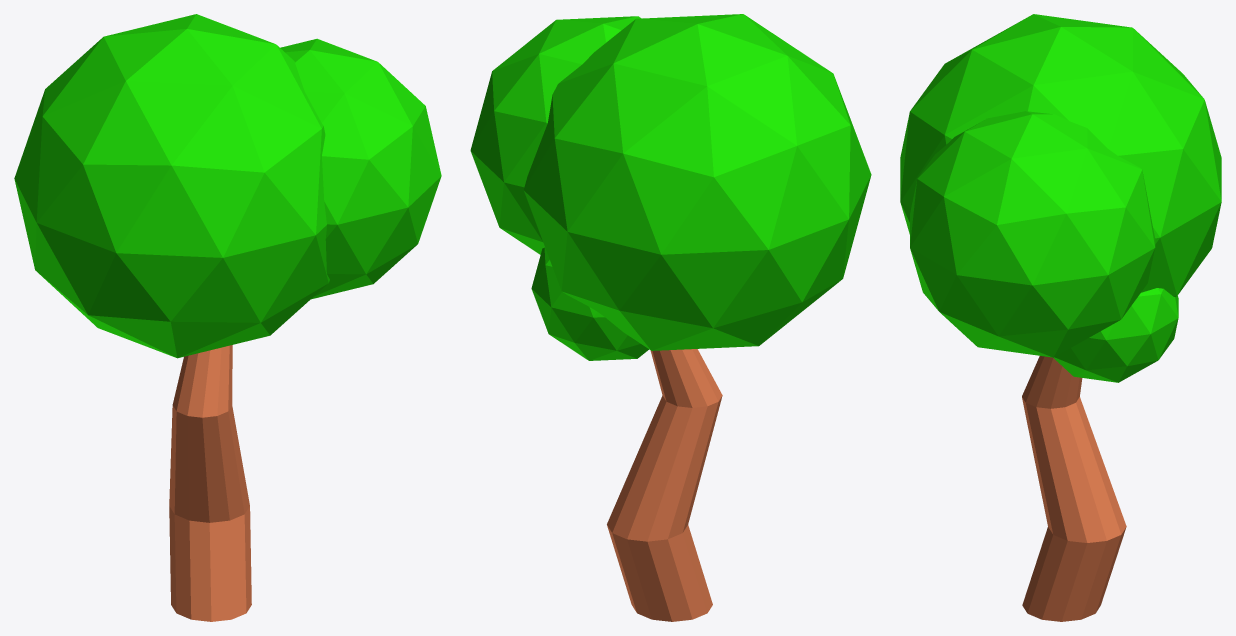
File: tree1.fbx
3 renders of one model, left to right at view 1: azimuth 30°, elevation 25°; view 2: azimuth 150°, elevation 25°; view 3: azimuth 270°, elevation 25°, orthographic. The views are drawn at different scales.
Parts seen in each view (by area): view 1: Tree 1; view 2: Tree 1; view 3: Tree 1.
Boxes of the visible parts, x1,y1,x2,y2 form: Tree 1: (14,14,441,621); Tree 1: (470,14,871,621); Tree 1: (900,14,1221,621).
Size of the model in its own units: 292 by 382 by 569.
